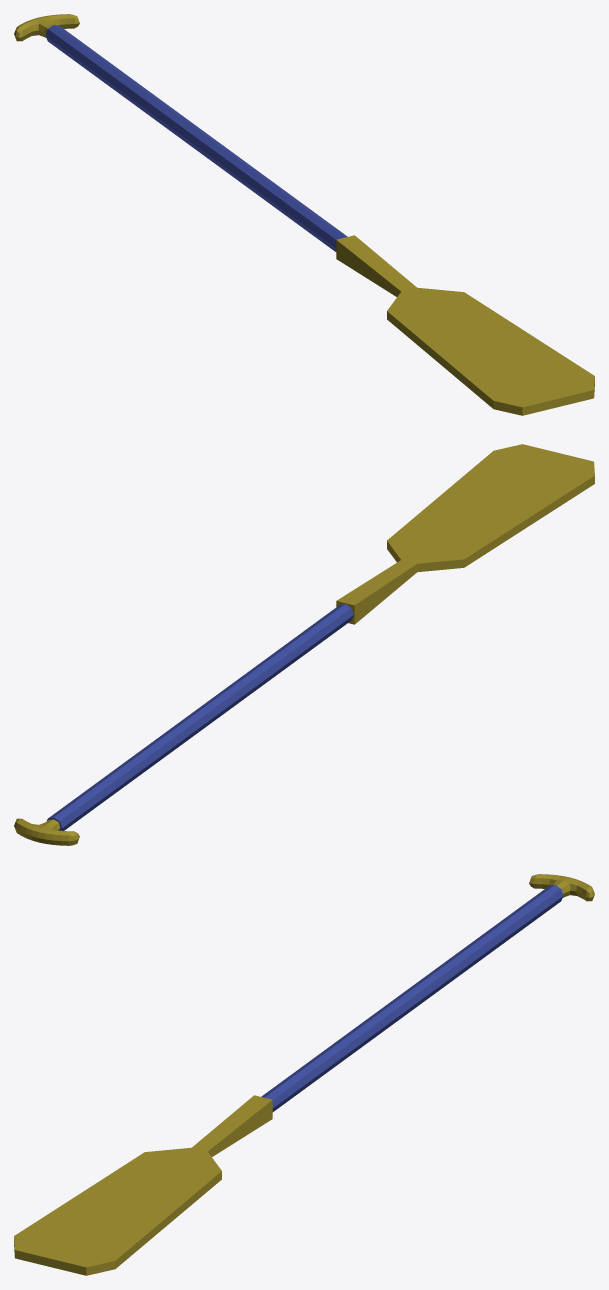
File: Raft_Paddle.glb
The picture shows the model from 3 angles, top to bottom: view 1: azimuth 30°, elevation 25°; view 2: azimuth 150°, elevation 25°; view 3: azimuth 330°, elevation 25°; orthographic projection.
Parts seen in each view (by area): view 1: Raft_Paddle; view 2: Raft_Paddle; view 3: Raft_Paddle.
Part boxes in pixels (box(x1,y1,x2,y2)): Raft_Paddle: box(14, 14, 594, 415); Raft_Paddle: box(14, 444, 594, 845); Raft_Paddle: box(14, 874, 594, 1275).
Size of the model in its own units: 1.67 by 0.3041 by 14.85.
